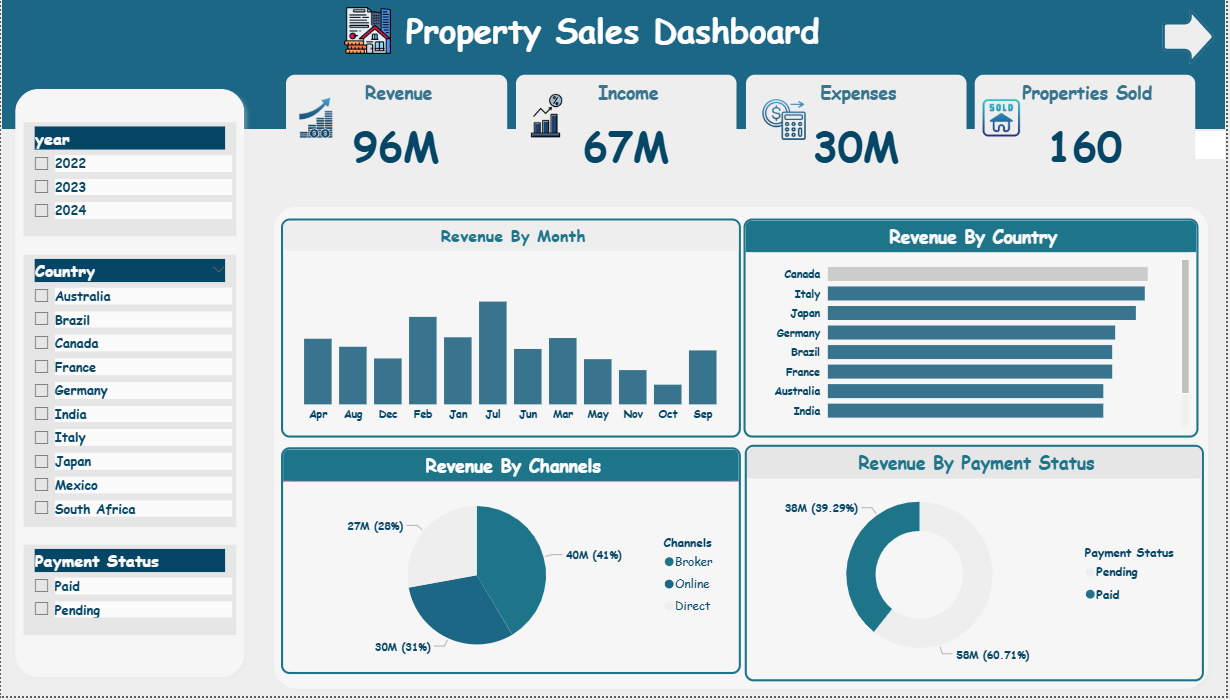

The dashboard page shown, as its layout file describes it:
{"tool":"powerbi","page":{"name":"Revenue & Sales Overview","canvas":[1400,800],"ordinal":1},"visuals":[{"type":"shape","box":[0,0,1399.5,152.2],"z":0},{"type":"textbox","title":"Property Sales Dashboard","box":[292.1,12.2,815.2,53],"z":1000},{"type":"card","title":"Revenue","fields":{"Values":["Calculations.Revenue"]},"box":[326.4,89.4,252.7,134.5],"z":2000},{"type":"card","title":"Properties Sold","fields":{"Values":["Calculations.Property sold"]},"box":[1113,89.4,252,134.5],"z":3000},{"type":"card","title":"Income","fields":{"Values":["Calculations.Income"]},"box":[589.1,89.4,252,134.5],"z":4000},{"type":"card","title":"Expenses","fields":{"Values":["Calculations.Expenses"]},"box":[851.1,89.4,252,134.5],"z":5000},{"type":"shape","box":[303,231,1085.6,569.3],"z":6000},{"type":"pieChart","title":"Revenue By Channels","fields":{"Y":["Calculations.Revenue"],"Category":["Sales_Table.Means of Sales"]},"box":[320.7,516.3,525.8,259.5],"z":7000},{"type":"barChart","title":"Revenue By Country","fields":{"Category":["Property_Table.Country"],"Y":["Calculations.Revenue"]},"box":[849.2,254.1,520.4,250],"z":8000},{"type":"lineClusteredColumnComboChart","title":"Revenue By Month","fields":{"Y":["Calculations.Revenue"],"Category":["calender2.Month Name"]},"box":[320.7,254.1,525.8,250],"z":9000},{"type":"image","box":[385.9,1.4,66.6,76.1],"z":10000},{"type":"image","box":[326.1,111.4,67.9,55.7],"z":11000},{"type":"image","box":[589.7,107.3,67.9,59.8],"z":12000},{"type":"image","box":[862.8,111.4,63.9,59.8],"z":13000},{"type":"image","box":[1112.8,107.3,61.1,63.9],"z":14000},{"type":"donutChart","title":"Revenue By Payment Status","fields":{"Category":["Sales_Table.Payment Status"],"Y":["Calculations.Revenue"]},"box":[850.5,512.2,524.5,270.4],"z":19000},{"type":"shape","box":[7.7,97.7,279.9,690.2],"z":20000},{"type":"slicer","fields":{"Values":["calender2.year"]},"box":[25.8,144,243.2,130.4],"z":21000},{"type":"slicer","fields":{"Values":["Property_Table.Country"]},"box":[25.8,295.5,243.2,311.1],"z":22000},{"type":"slicer","fields":{"Values":["Sales_Table.Payment Status"]},"box":[25.8,627.7,243.2,103.3],"z":23000},{"type":"shape","box":[1327.1,12.9,61.4,67.1],"z":24000}]}

Visuals, with their boxes in screenshot pixels (x1, y1, x2, y2), scaled from the page's 1400x800 canvas onto the 1230x700 screenshot:
shape: region(0, 0, 1229, 133)
"Property Sales Dashboard" textbox: region(257, 11, 973, 57)
"Revenue" card: region(287, 78, 509, 196)
"Properties Sold" card: region(978, 78, 1199, 196)
"Income" card: region(518, 78, 739, 196)
"Expenses" card: region(748, 78, 969, 196)
shape: region(266, 202, 1220, 699)
"Revenue By Channels" pieChart: region(282, 452, 744, 679)
"Revenue By Country" barChart: region(746, 222, 1203, 441)
"Revenue By Month" lineClusteredColumnComboChart: region(282, 222, 744, 441)
image: region(339, 1, 398, 68)
image: region(287, 97, 346, 146)
image: region(518, 94, 578, 146)
image: region(758, 97, 814, 150)
image: region(978, 94, 1031, 150)
"Revenue By Payment Status" donutChart: region(747, 448, 1208, 685)
shape: region(7, 85, 253, 689)
slicer - calender2.year: region(23, 126, 236, 240)
slicer - Property_Table.Country: region(23, 259, 236, 531)
slicer - Sales_Table.Payment Status: region(23, 549, 236, 640)
shape: region(1166, 11, 1220, 70)
